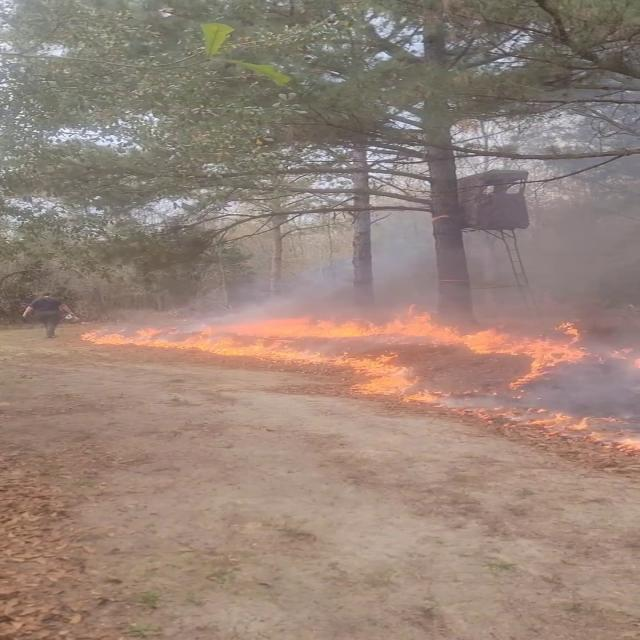Fire: (90, 303, 610, 392)
Smoke: (227, 187, 640, 317)
